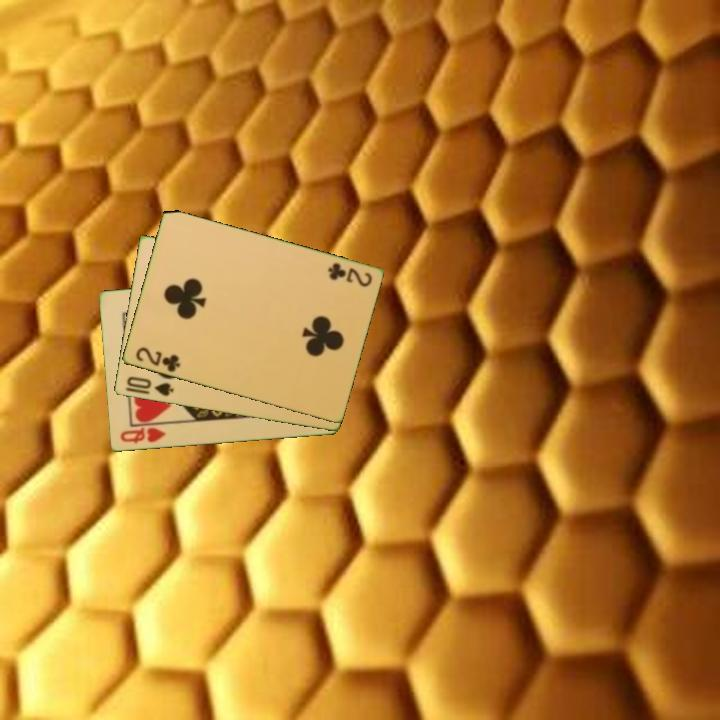10s: (123, 373, 176, 400)
2c: (132, 343, 183, 375), (324, 259, 375, 290)
Qh: (117, 424, 169, 447)
